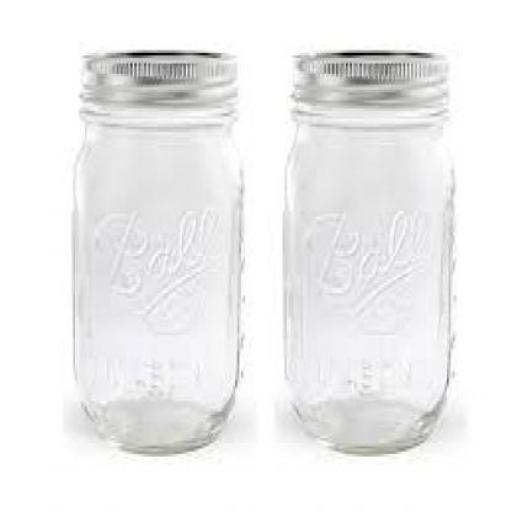glass: (280, 97, 450, 452), (71, 103, 239, 451)
metal: (80, 50, 234, 98), (290, 50, 445, 95)
